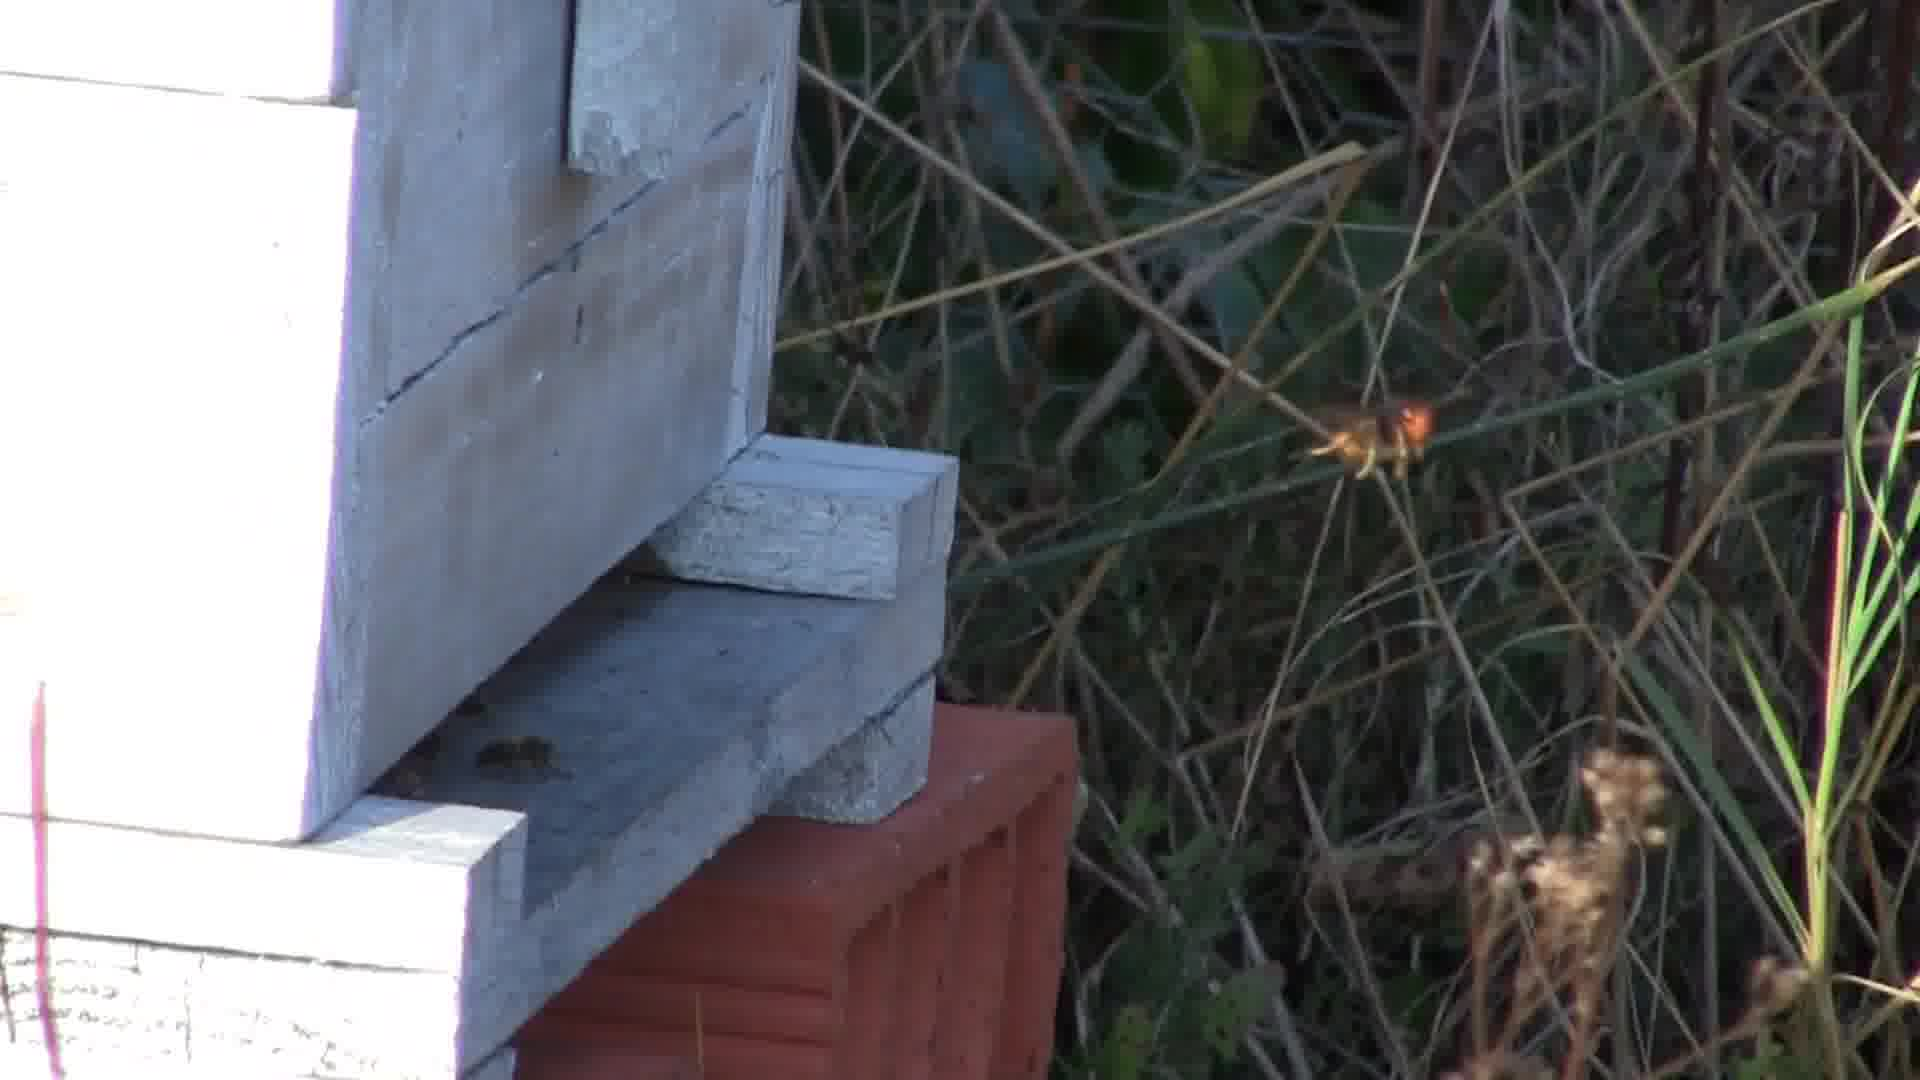hornet: (1298, 401, 1458, 488)
